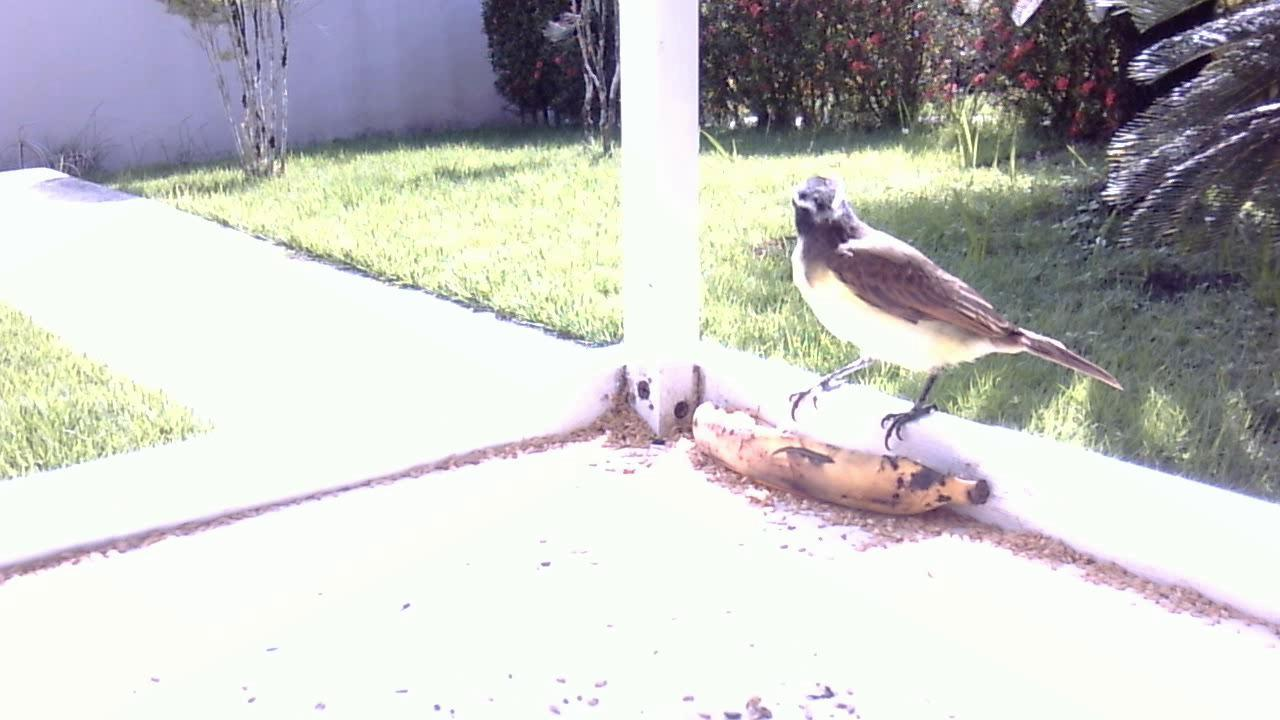bem_te_vi: (767, 172, 1131, 465)
